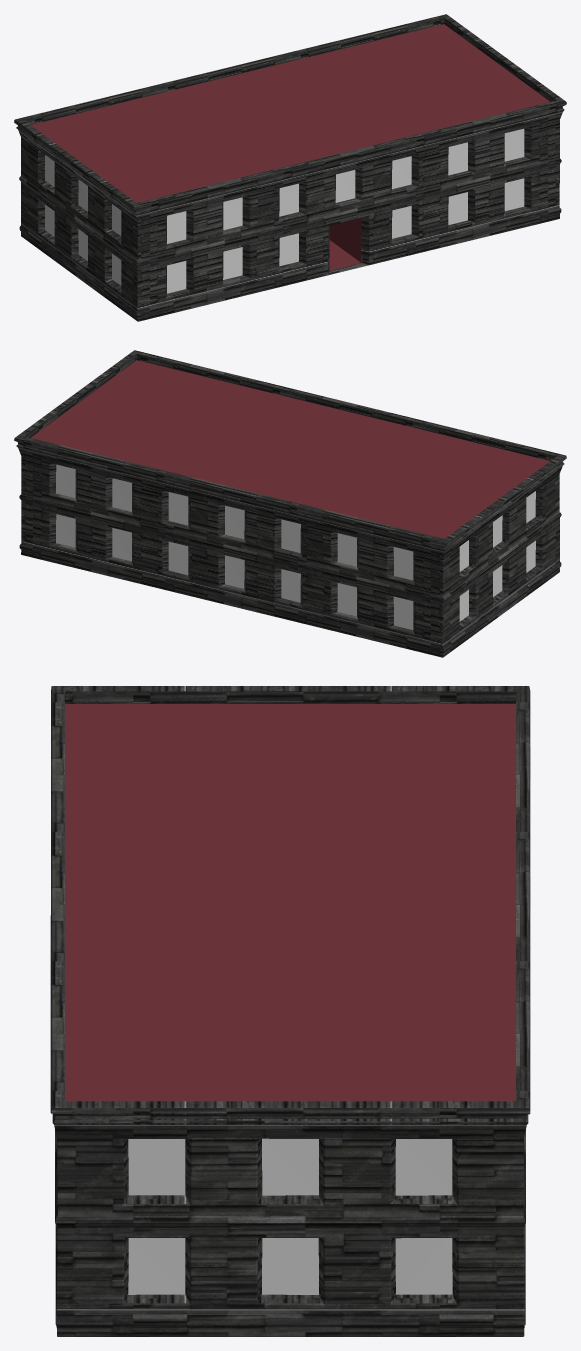
The model's file is OLD_BUILDING_04.fbx.
3 views of the same model, one above another, from view 1: azimuth 30°, elevation 25°; view 2: azimuth 150°, elevation 25°; view 3: azimuth 270°, elevation 25° (orthographic). The views are drawn at different scales.
Parts seen in each view (by area): view 1: OLD_BUILDING_04; view 2: OLD_BUILDING_04; view 3: OLD_BUILDING_04.
Boxes of the visible parts, x1,y1,x2,y2 form: OLD_BUILDING_04: (14, 14, 566, 321); OLD_BUILDING_04: (14, 350, 566, 657); OLD_BUILDING_04: (50, 686, 530, 1336).
Bounding box in the file's own units: 3227 × 836 × 1547.
